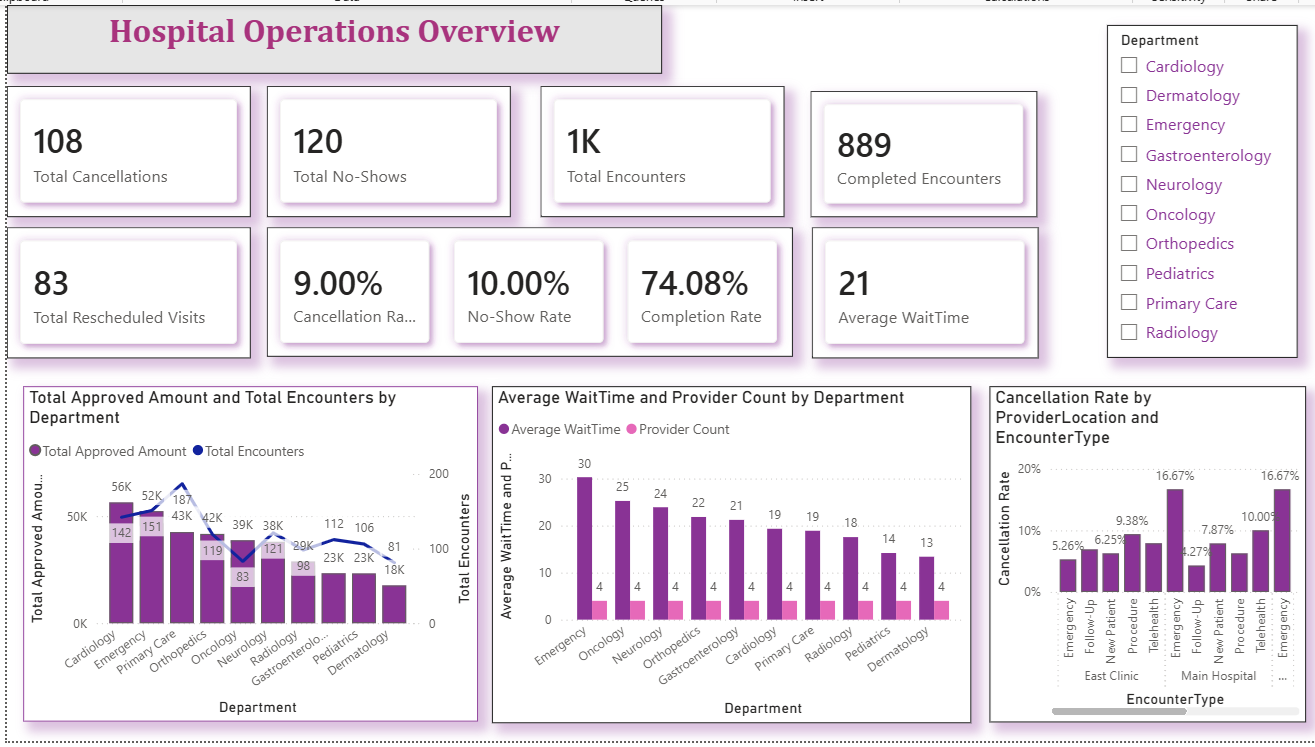

Layout of this report page (visuals, bound fields, positions):
{"tool":"powerbi","page":{"name":"Hospital Operation Overview","canvas":[1280,720],"ordinal":0},"visuals":[{"type":"textbox","box":[0,0,640.8,67.2],"z":0},{"type":"cardVisual","fields":{"Data":["ClaimsTable.Total Encounters"]},"box":[521.8,79.4,238.1,127.9],"z":1000},{"type":"cardVisual","fields":{"Data":["ClaimsTable.Completed Encounters"]},"box":[786.4,83.8,222,123.5],"z":2000},{"type":"cardVisual","fields":{"Data":["ClaimsTable.Total Cancellations"]},"box":[0,79.4,238.1,127.9],"z":3000},{"type":"cardVisual","fields":{"Data":["ClaimsTable.Total No-Shows"]},"box":[254.3,79.4,238.1,127.9],"z":4000},{"type":"cardVisual","fields":{"Data":["ClaimsTable.Total Rescheduled Visits"]},"box":[0,217.5,238.1,127.9],"z":5000},{"type":"cardVisual","fields":{"Data":["ClaimsTable.Cancellation Rate","ClaimsTable.No-Show Rate","ClaimsTable.Completion Rate"]},"box":[254.3,217.5,514.5,126.4],"z":6000},{"type":"cardVisual","fields":{"Data":["ClaimsTable.Average WaitTime"]},"box":[787.9,217.5,222,127.9],"z":7000},{"type":"lineClusteredColumnComboChart","fields":{"Category":["ClaimsTable.Department"],"Y":["ClaimsTable.Total Revenue"],"Y2":["ClaimsTable.Total Encounters"]},"box":[15.9,373,445.1,327.7],"z":8000},{"type":"clusteredColumnChart","fields":{"Category":["ClaimsTable.Department"],"Y":["ClaimsTable.Average WaitTime","ClaimsTable.Total Provider"]},"box":[474.8,373.4,468.9,329.3],"z":9000},{"type":"clusteredColumnChart","fields":{"Y":["ClaimsTable.Cancellation Rate"],"Category":["ProvidersTable.ProviderLocation","EncountersTable.EncounterType"]},"box":[961.6,373.2,309.7,328.4],"z":10000},{"type":"slicer","fields":{"Values":["EncountersTable.Department"]},"box":[1076,19.9,186.6,325.9],"z":11000}]}

Visuals, with their boxes in screenshot pixels (x1, y1, x2, y2):
textbox: bbox(14, 3, 663, 72)
cardVisual - ClaimsTable.Total Encounters: bbox(542, 84, 784, 213)
cardVisual - ClaimsTable.Completed Encounters: bbox(810, 88, 1035, 213)
cardVisual - ClaimsTable.Total Cancellations: bbox(14, 84, 255, 213)
cardVisual - ClaimsTable.Total No-Shows: bbox(271, 84, 513, 213)
cardVisual - ClaimsTable.Total Rescheduled Visits: bbox(14, 224, 255, 353)
cardVisual - ClaimsTable.Cancellation Rate x ClaimsTable.No-Show Rate: bbox(271, 224, 793, 352)
cardVisual - ClaimsTable.Average WaitTime: bbox(812, 224, 1037, 353)
lineClusteredColumnComboChart - ClaimsTable.Department x ClaimsTable.Total Revenue: bbox(30, 381, 481, 713)
clusteredColumnChart - ClaimsTable.Department x ClaimsTable.Average WaitTime: bbox(495, 382, 970, 715)
clusteredColumnChart - ClaimsTable.Cancellation Rate x ProvidersTable.ProviderLocation: bbox(988, 382, 1302, 714)
slicer - EncountersTable.Department: bbox(1104, 24, 1293, 354)
